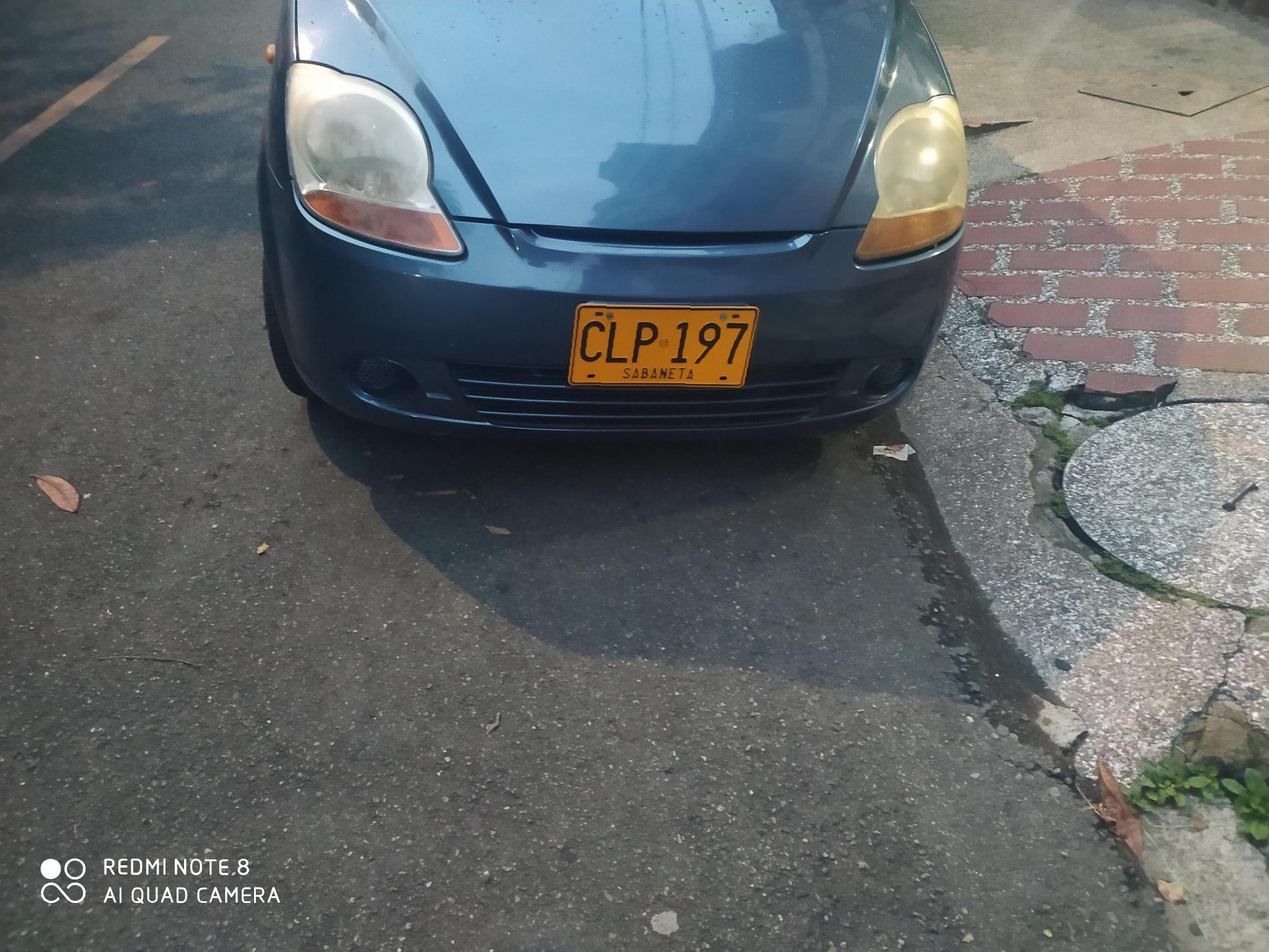placa: (565, 296, 761, 391)
